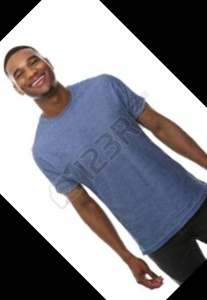arm: (27, 142, 130, 260), (107, 73, 207, 164)
chest: (65, 105, 185, 224)
face: (3, 40, 54, 95)
hand: (135, 254, 163, 289)
neck: (41, 87, 67, 114)
